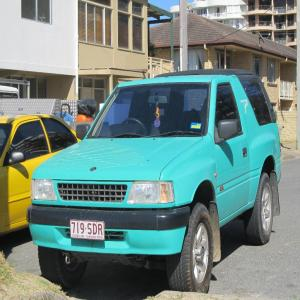Vehicle-registration-plate: (70, 218, 106, 243)
